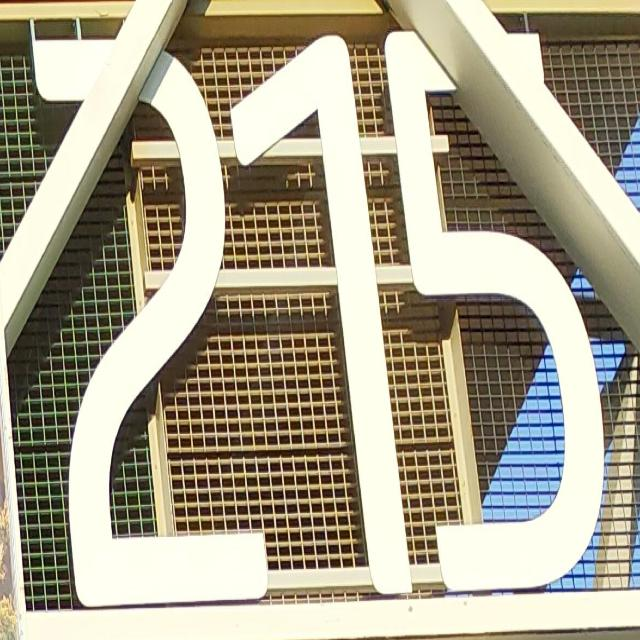character: (29, 27, 272, 611), (384, 20, 605, 594), (228, 26, 414, 604)
